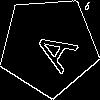A: (24, 21, 79, 75)
